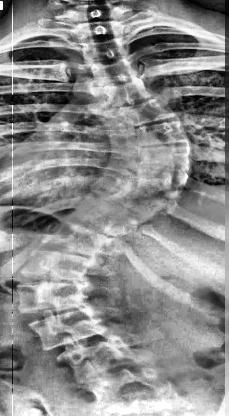Vertebrae: (28, 308, 104, 352), (61, 335, 135, 377), (85, 364, 155, 404), (49, 219, 110, 257), (15, 282, 92, 312), (20, 251, 88, 283), (116, 91, 176, 127), (106, 185, 172, 217), (75, 199, 136, 233), (124, 118, 189, 147), (128, 144, 202, 166), (100, 76, 148, 106), (134, 168, 190, 192), (74, 19, 130, 41), (79, 42, 127, 62), (90, 60, 134, 80)
